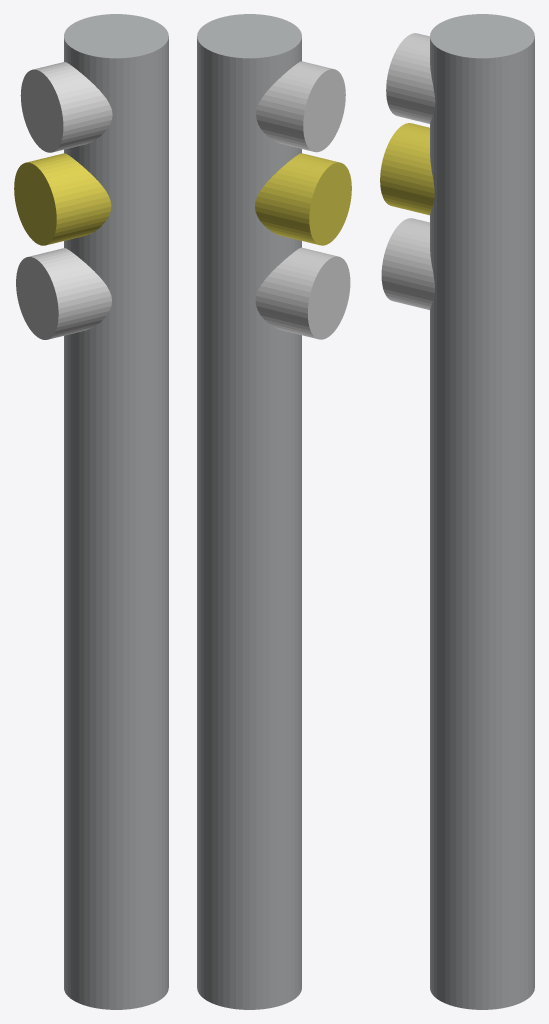
Rendered from trafficlight_yellow.glb.
3 renders of one model, left to right at view 1: azimuth 30°, elevation 25°; view 2: azimuth 150°, elevation 25°; view 3: azimuth 330°, elevation 25°, orthographic.
Parts seen in each view (by area): view 1: Mesh_Mesh_head_geo.001_lambert2SG.001; view 2: Mesh_Mesh_head_geo.001_lambert2SG.001; view 3: Mesh_Mesh_head_geo.001_lambert2SG.001.
Boxes of the visible parts, left/top/right/bottom form: Mesh_Mesh_head_geo.001_lambert2SG.001: left=14, top=14, right=168, bottom=1009; Mesh_Mesh_head_geo.001_lambert2SG.001: left=197, top=14, right=351, bottom=1009; Mesh_Mesh_head_geo.001_lambert2SG.001: left=380, top=14, right=534, bottom=1009.
Bounding box in the file's own units: 0.00278 × 0.02 × 0.002.
